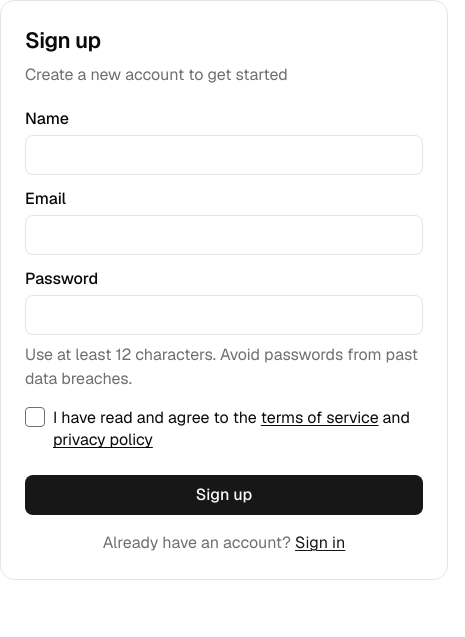
Test: SignUpForm › form submission › shows error message on sign up failure
Type "Test User" into the field labelled "Name" at coordinates (224, 155), box x1=25 y1=135 x2=423 y2=175
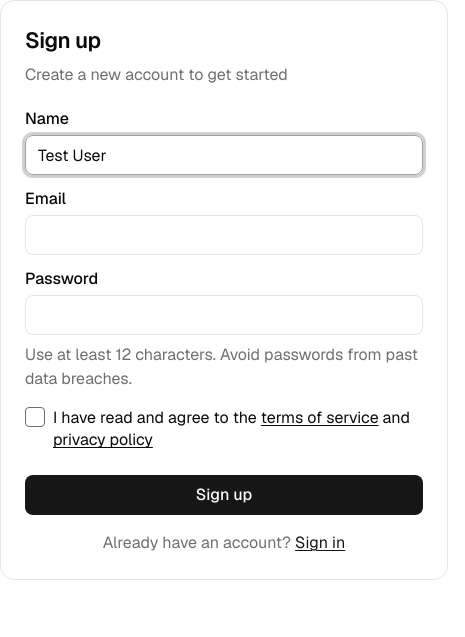
Type "existing@example.com" into the field labelled "Email" at coordinates (224, 235), box x1=25 y1=215 x2=423 y2=255
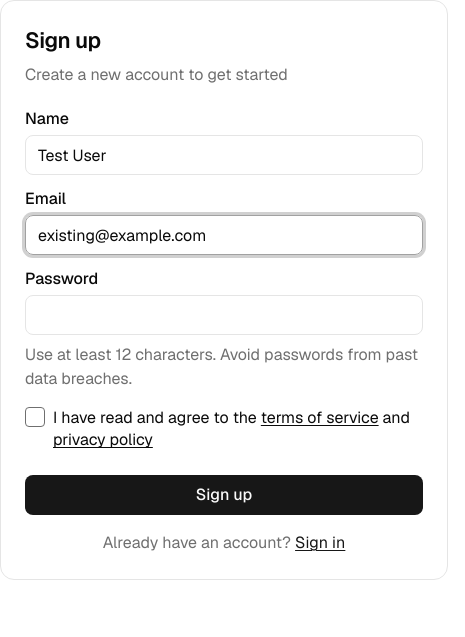
Type "password123" into the password field labelled "Password" at coordinates (224, 315), box x1=25 y1=295 x2=423 y2=335
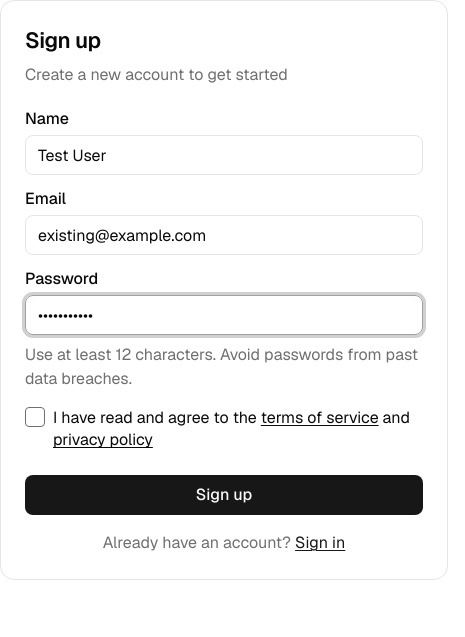
Click the checkbox named "terms of service" at coordinates (35, 417), box x1=25 y1=407 x2=45 y2=427
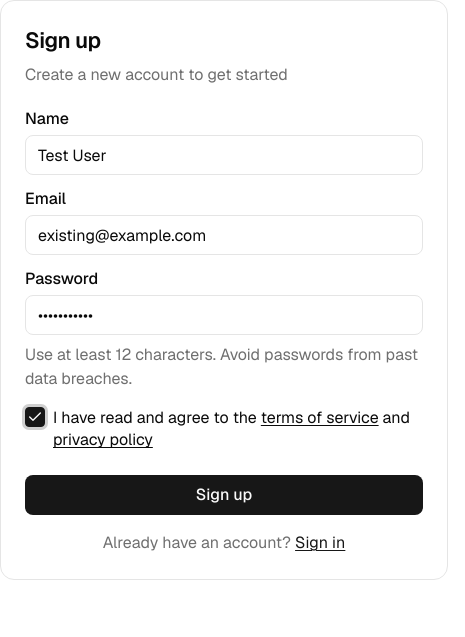
Click the button "Sign up" at coordinates (224, 495), box x1=25 y1=475 x2=423 y2=515
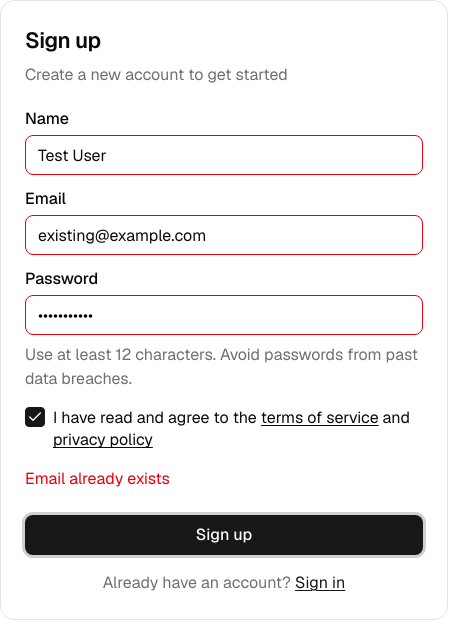
Expected: the message reads "Email already exists", x1=25 y1=468 x2=170 y2=489
